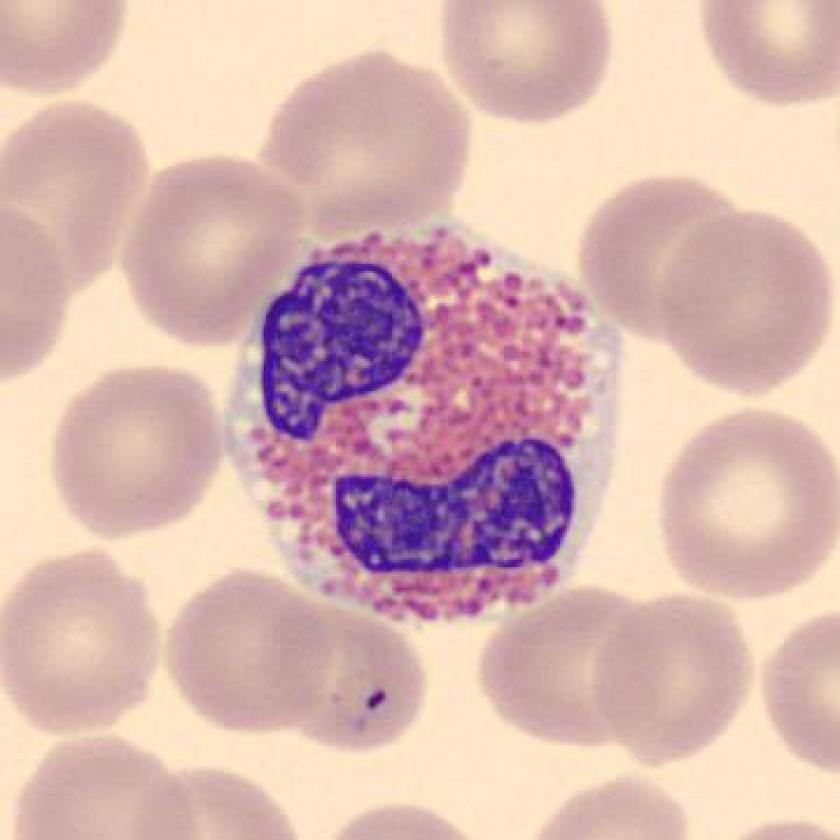eosinophil: (216, 217, 636, 638)
